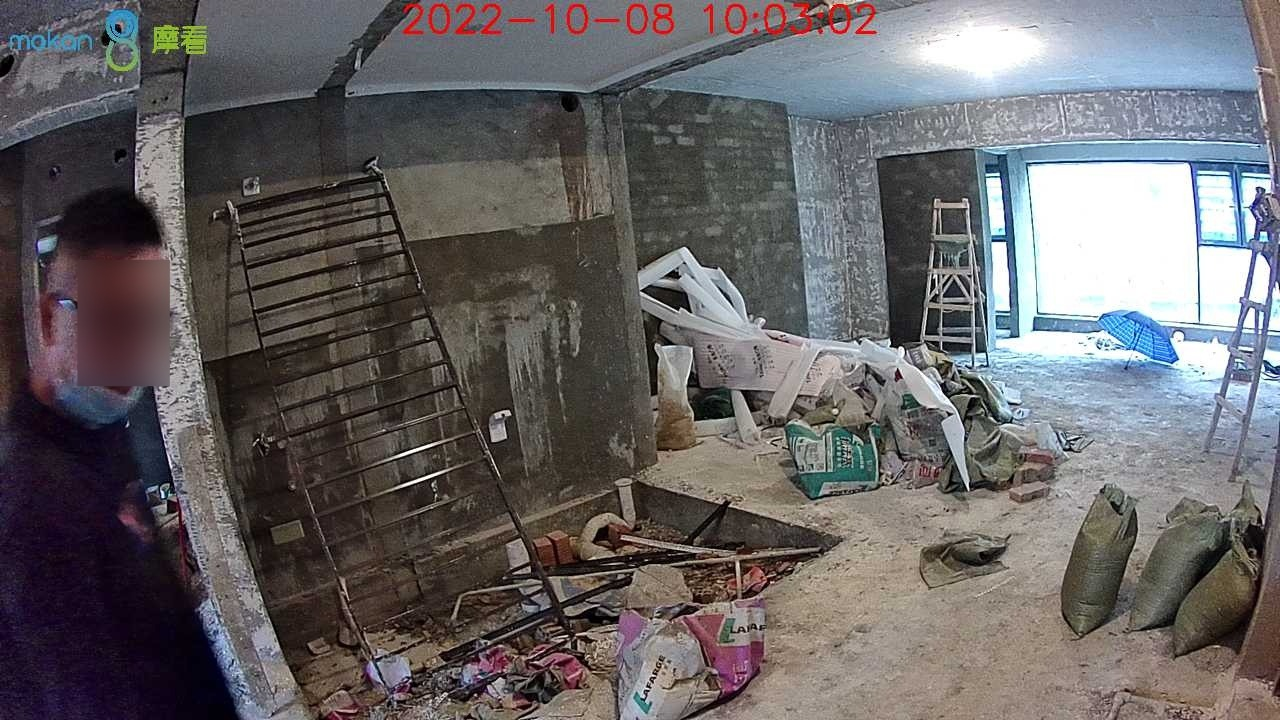people: (4, 192, 240, 720)
window: (1019, 158, 1259, 331)
